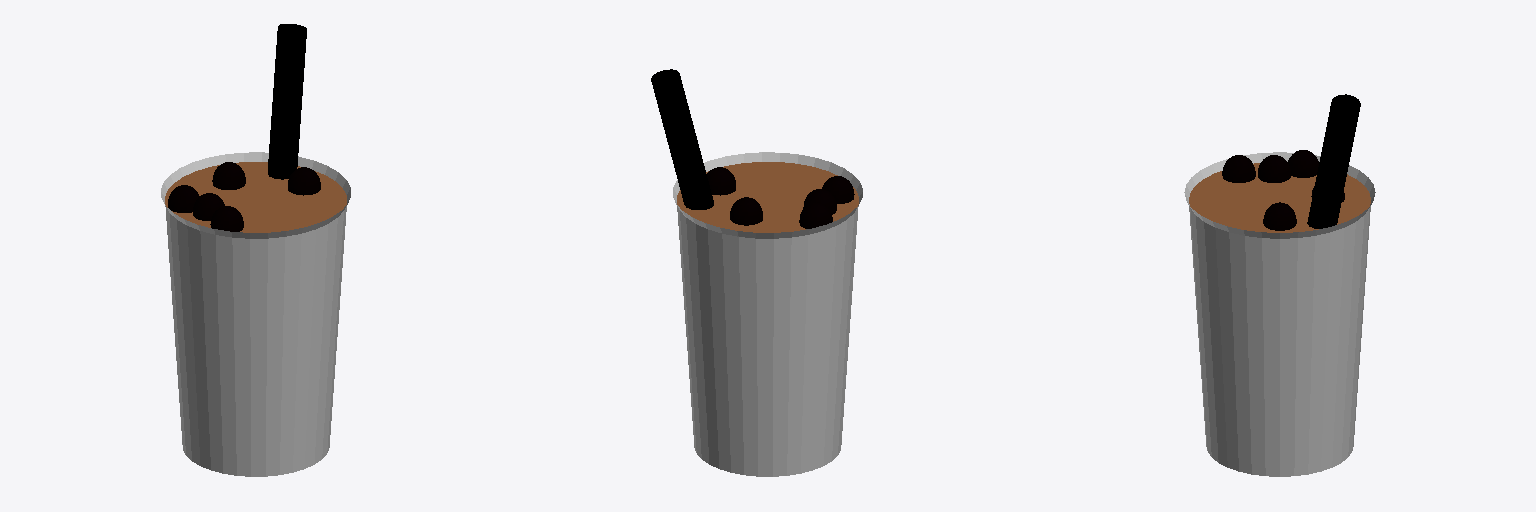
The model's file is BBTEA.obj.
3 views of the same model, side by side, from view 1: azimuth 30°, elevation 25°; view 2: azimuth 150°, elevation 25°; view 3: azimuth 270°, elevation 25° (orthographic).
Visible parts, largest first — view 1: NurbsCurve; view 2: NurbsCurve; view 3: NurbsCurve.
Boxes of the visible parts, x1=… form: NurbsCurve: x1=161, y1=24, x2=350, y2=476; NurbsCurve: x1=651, y1=69, x2=862, y2=476; NurbsCurve: x1=1184, y1=94, x2=1375, y2=476.
Bounding box in the file's own units: 2.59 × 5.68 × 2.59.